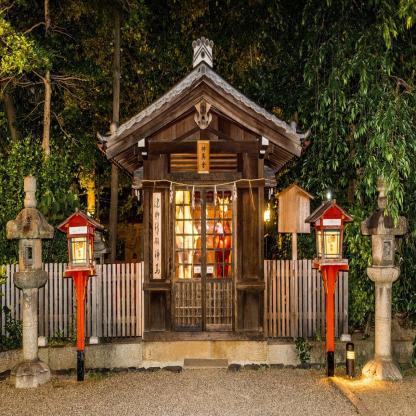Building Outline: (97, 37, 311, 342)
Door: (172, 187, 235, 332)
Facade: (145, 125, 266, 342)
Ground Floor: (144, 125, 265, 342)
Roof: (97, 37, 311, 148)
